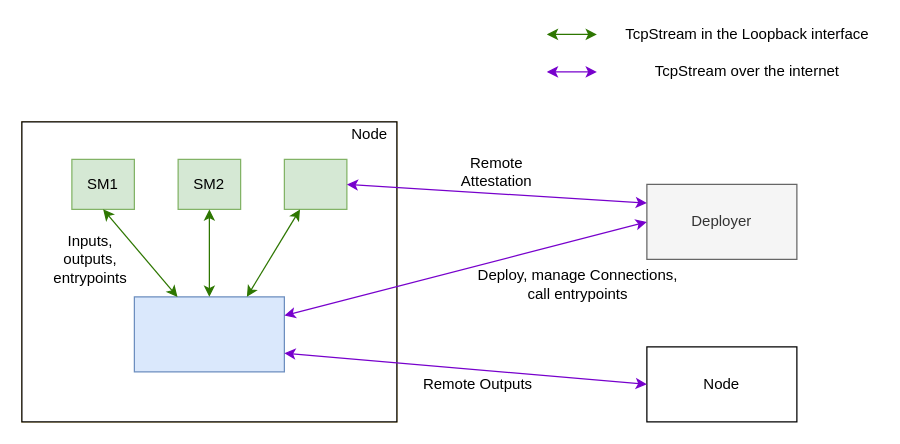
Image size: 900x444. Some labels were removed from this diagram. Each missing label, with the centre of its shape:
"Event Manager" goes at point 208,334.
"SM3" goes at point 315,183.
